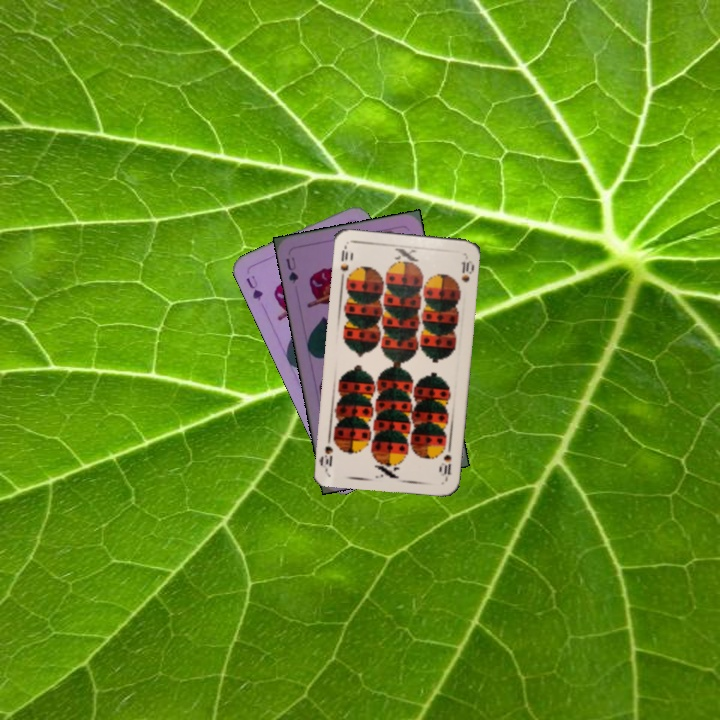GU: (242, 271, 266, 303), (282, 253, 301, 286)
S10: (337, 242, 354, 283), (437, 441, 454, 481)
